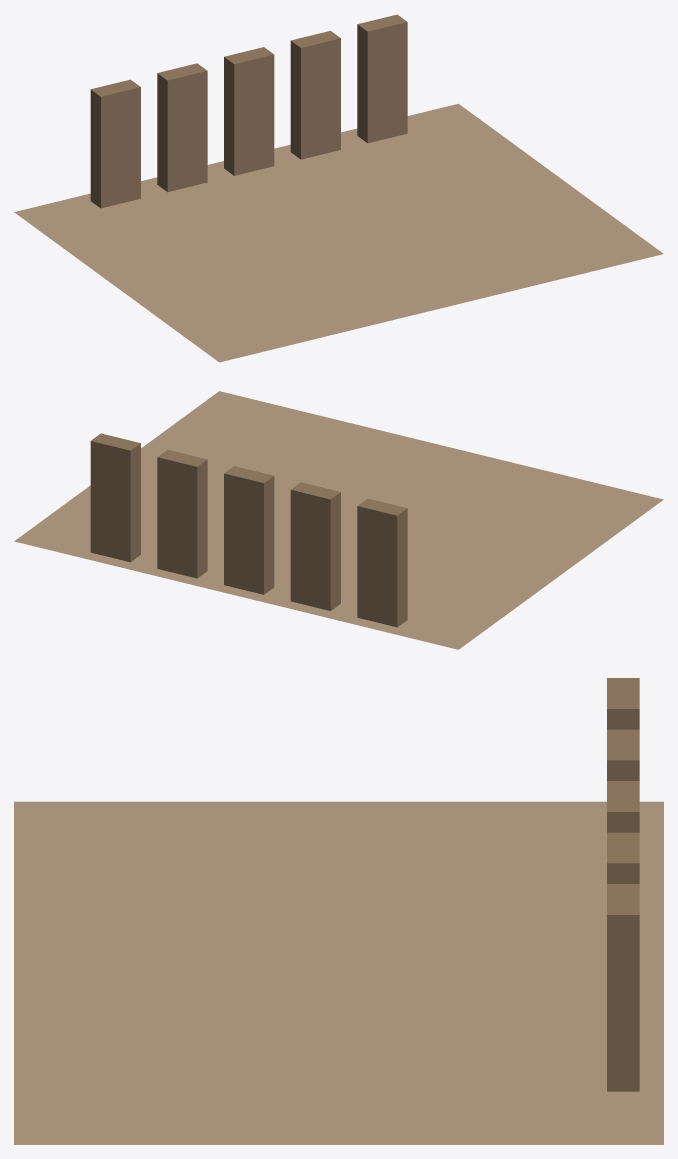
The model's file is study_v1.glb.
The picture shows the model from 3 angles, top to bottom: view 1: azimuth 30°, elevation 25°; view 2: azimuth 150°, elevation 25°; view 3: azimuth 270°, elevation 25°; orthographic projection. The views are drawn at different scales.
Parts seen in each view (by area): view 1: Study; view 2: Study; view 3: Study.
Boxes of the visible parts, x1,y1,x2,y2 form: Study: (14, 14, 663, 362); Study: (14, 391, 663, 649); Study: (14, 678, 663, 1144).
Size of the model in its own units: 10 by 2.4 by 8.
